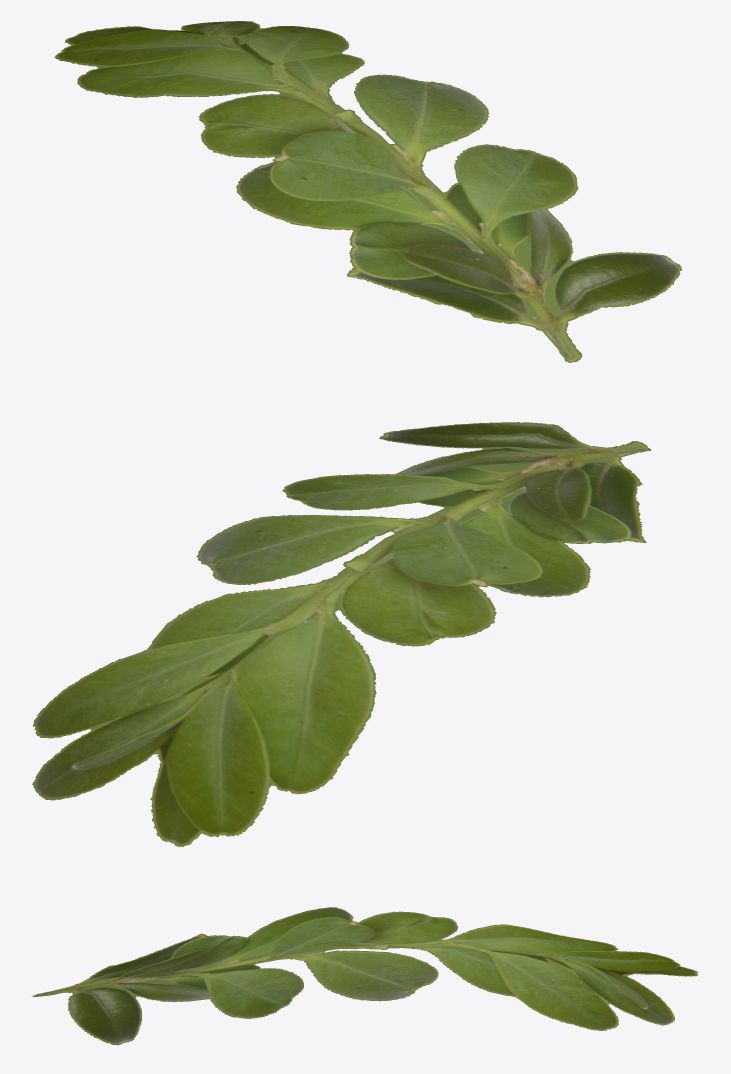
Rendered from plant_01.fbx.
The picture shows the model from 3 angles, top to bottom: view 1: azimuth 30°, elevation 25°; view 2: azimuth 150°, elevation 25°; view 3: azimuth 270°, elevation 25°; orthographic projection. The views are drawn at different scales.
Parts seen in each view (by area): view 1: foliage_01; view 2: foliage_01; view 3: foliage_01.
Part boxes in pixels (x1,y1,x2,y2): foliage_01: (54, 21, 681, 362); foliage_01: (32, 422, 651, 846); foliage_01: (32, 907, 698, 1045).
Bounding box in the file's own units: 41.63 × 8.19 × 86.99.
